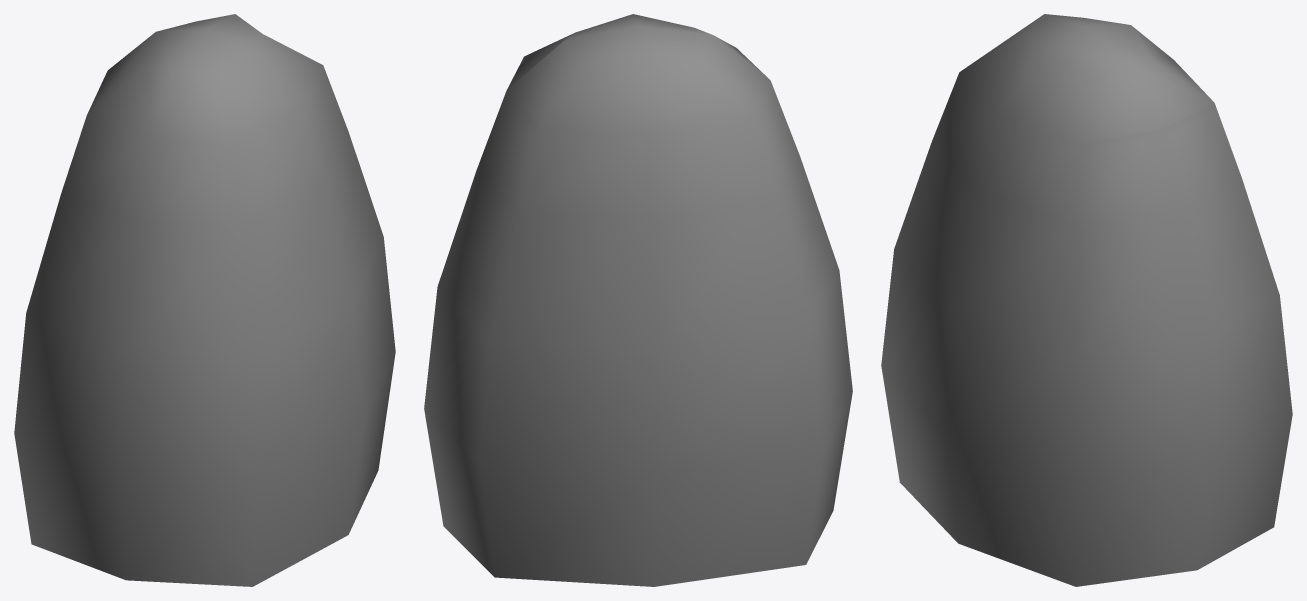
File: ZenRock_01.fbx
The picture shows the model from 3 angles, left to right: view 1: azimuth 30°, elevation 25°; view 2: azimuth 150°, elevation 25°; view 3: azimuth 270°, elevation 25°; orthographic projection. The views are drawn at different scales.
Visible parts, largest first — view 1: ZenRock_01; view 2: ZenRock_01; view 3: ZenRock_01.
Part boxes in pixels (bbox=[...]): ZenRock_01: bbox=[14, 14, 395, 586]; ZenRock_01: bbox=[424, 14, 852, 586]; ZenRock_01: bbox=[881, 14, 1292, 586].
Bounding box in the file's own units: 387 × 478 × 373.
